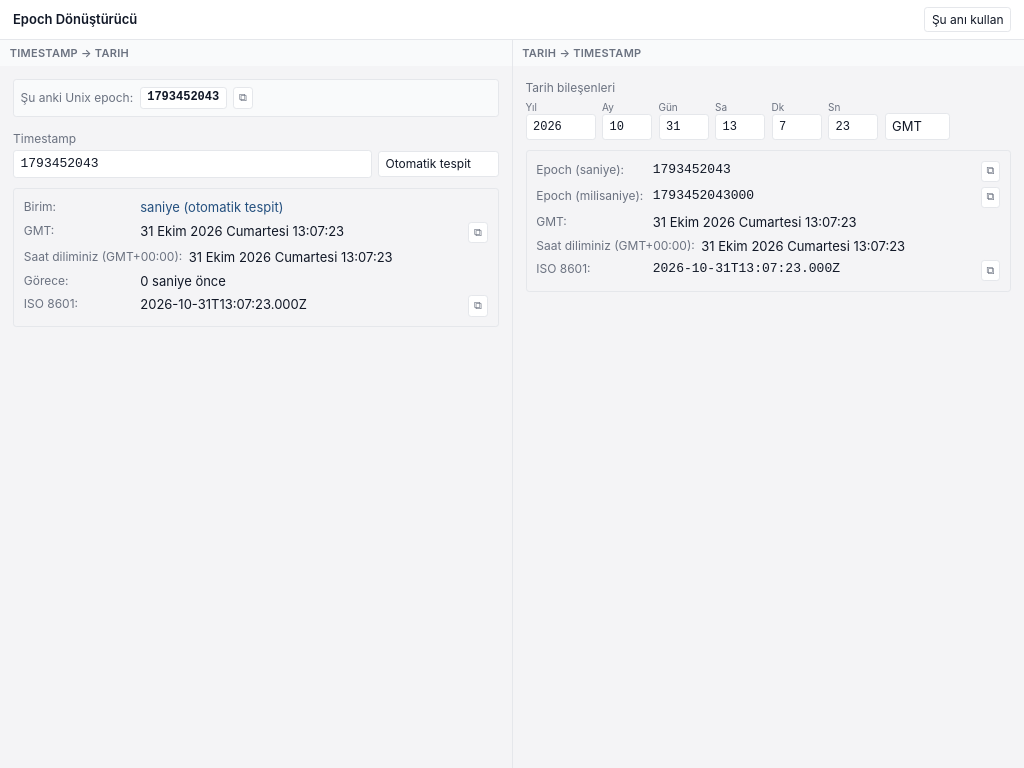
Test case: issue #248 follow-up — Epoch tool in Turkish › dates, relative time, unit name and date-part labels are Turkish
Replace the text in the field labelled "Timestamp" with "1792620031": (192, 164) [13,150,372,178]
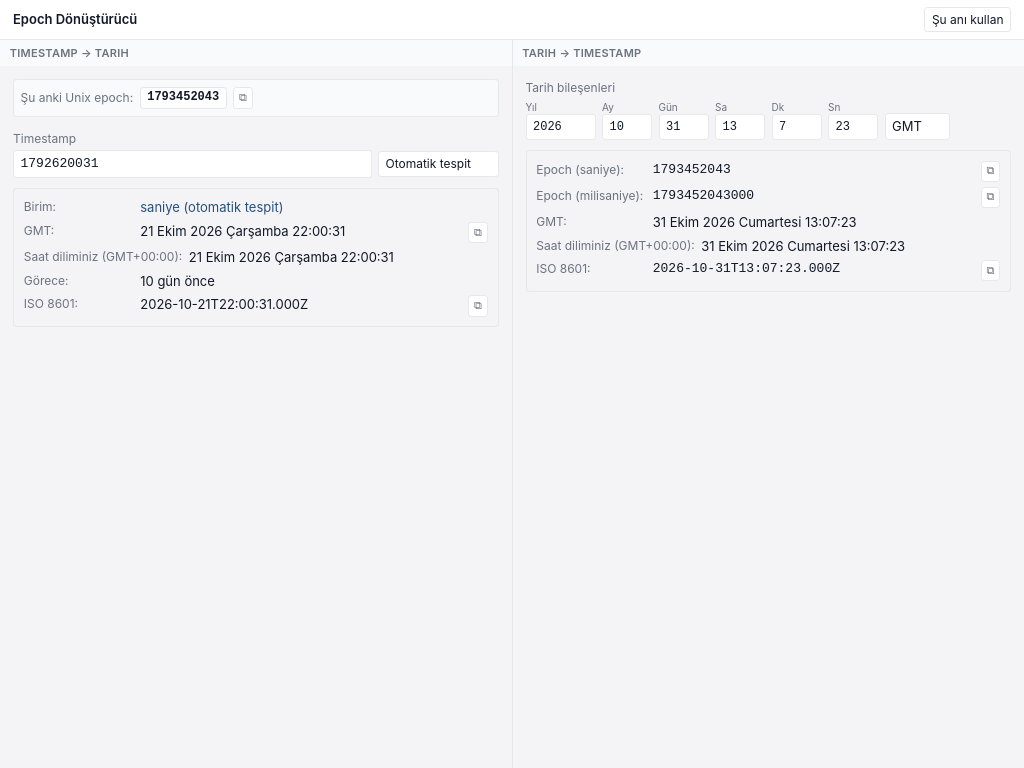
Expected: the text "saniye (otomatik tespit)" is shown, [140,199,283,215]
Result: the 1st text "21 Ekim 2026 Çarşamba 22:00:31" is shown at [140,223,345,239]
